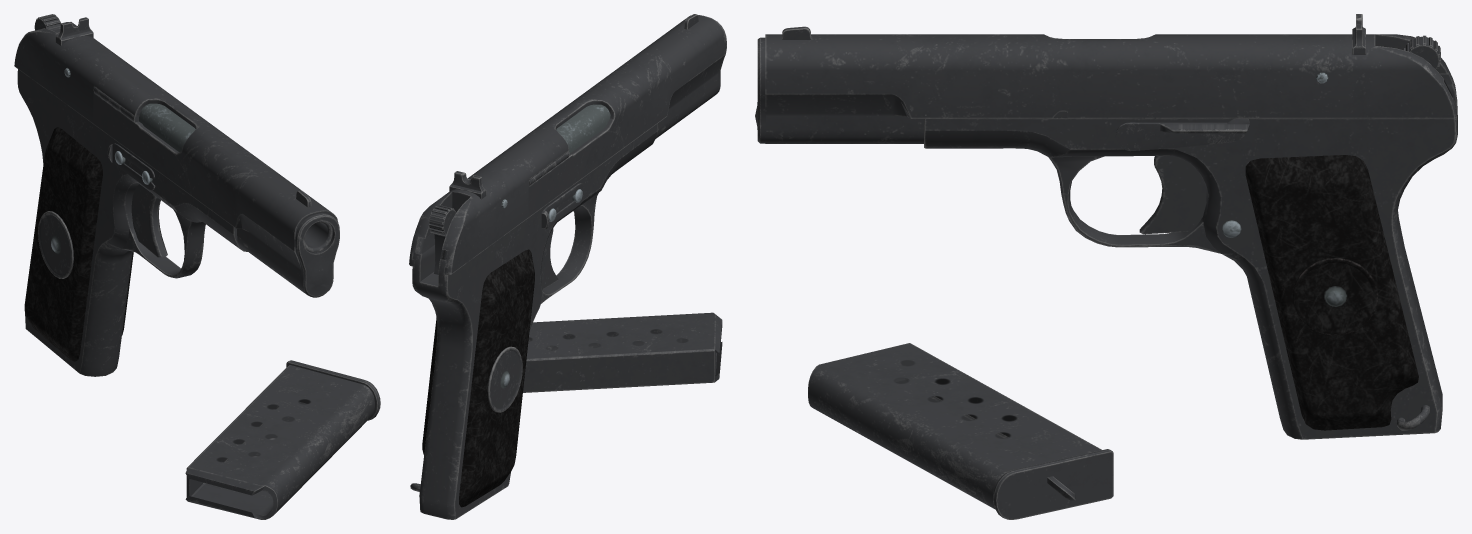
3 renders of one model, left to right at view 1: azimuth 30°, elevation 25°; view 2: azimuth 150°, elevation 25°; view 3: azimuth 270°, elevation 25°, orthographic. The views are drawn at different scales.
Parts seen in each view (by area): view 1: tt_base, tt_slide, tt_mag; view 2: tt_base, tt_slide, tt_mag, tt_bolt; view 3: tt_base, tt_slide, tt_mag.
Boxes of the visible parts, <box> form: tt_base: <box>17,69,332,376</box>; tt_slide: <box>14,17,339,297</box>; tt_mag: <box>185,360,380,519</box>; tt_base: <box>410,123,658,519</box>; tt_slide: <box>409,14,726,275</box>; tt_mag: <box>523,312,722,392</box>; tt_bolt: <box>429,205,455,274</box>; tt_base: <box>924,71,1457,439</box>; tt_slide: <box>755,14,1456,143</box>; tt_mag: <box>808,343,1113,519</box>.
Bounding box in the file's own units: 0.1693 × 0.2323 × 0.3622.
1 material, 1 textured.
